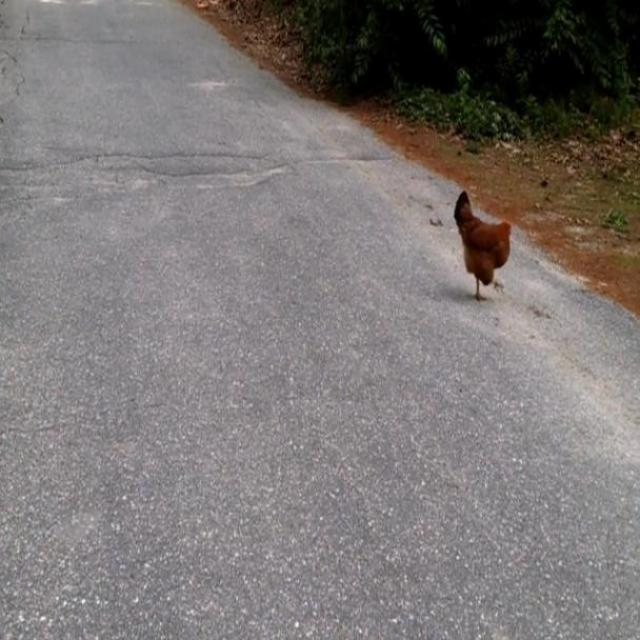Chicken: (453, 190, 515, 303)
